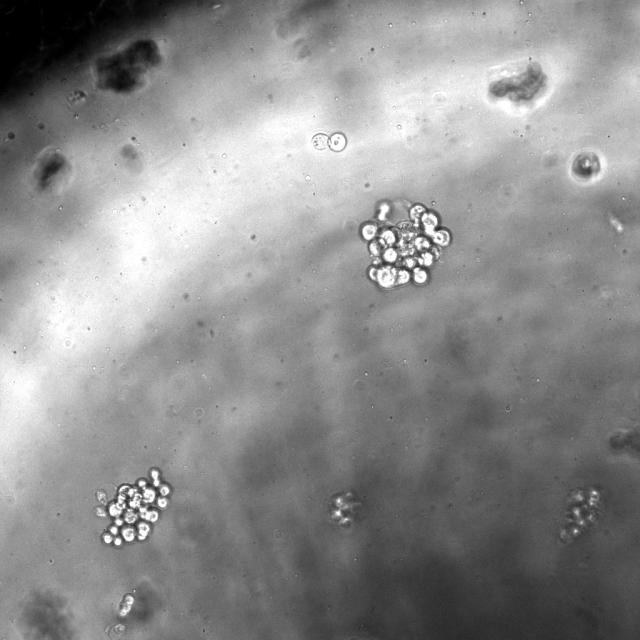organoid: (360, 199, 451, 289), (93, 466, 172, 550), (96, 39, 161, 92), (560, 487, 602, 542), (489, 61, 546, 101), (30, 147, 72, 194), (329, 491, 359, 528), (572, 152, 601, 178), (312, 132, 346, 152), (609, 430, 639, 452), (118, 593, 134, 618), (106, 622, 126, 639)
